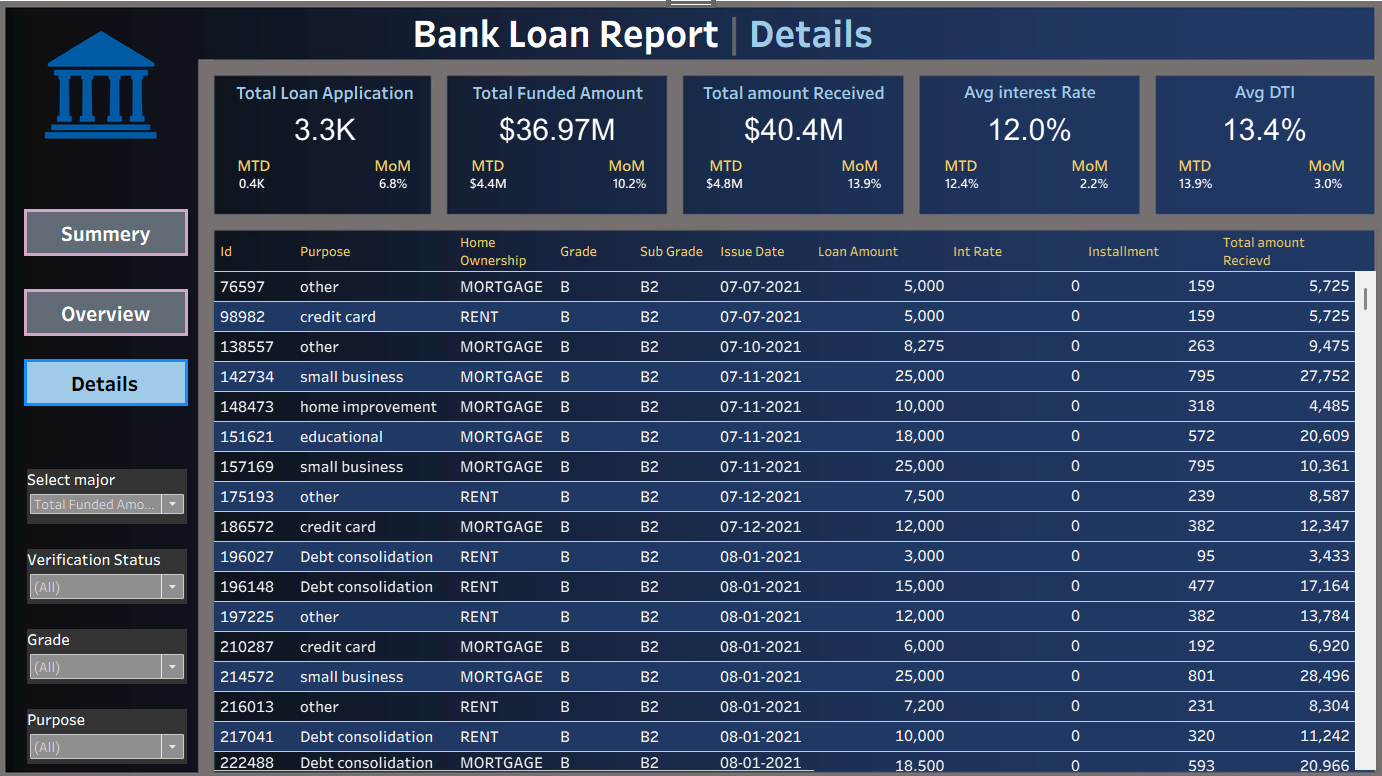

What the dashboard file says about the page in this screenshot:
{"tool":"tableau","page":{"name":"Details","canvas":[1000,1000],"units":"permille","ordinal":0},"visuals":[{"type":"image","param":"Image/Tableau Background 3.jpg","box":[5,10,990,980]},{"type":"text","box":[323.8,18.7,331.2,68.6]},{"type":"image","param":"Image/ChatGPT Image Oct 29, 2025, 01_03_14 PM.png","box":[70,22.4,121.9,230.7]},{"type":"worksheet","title":"Total Loan Application","mark":"Automatic","box":[202.5,108.5,137.5,87.3]},{"type":"worksheet","title":"Total Funded Amount","mark":"Automatic","box":[348.1,108.5,137.5,87.3]},{"type":"worksheet","title":"Total amount Received","mark":"Automatic","box":[495.6,108.5,137.5,87.3]},{"type":"worksheet","title":"Avg interest Rate","mark":"Automatic","box":[643.1,108.5,137.5,87.3]},{"type":"worksheet","title":"Avg DTI","mark":"Automatic","box":[790,108.5,137.5,87.3]},{"type":"text","box":[214.4,204.5,27.5,28.7]},{"type":"text","box":[300,204.5,27.5,28.7]},{"type":"text","box":[360.6,204.5,27.5,28.7]},{"type":"text","box":[446.2,204.5,27.5,28.7]},{"type":"text","box":[509.4,204.5,27.5,28.7]},{"type":"text","box":[591.9,204.5,27.5,28.7]},{"type":"text","box":[656.2,204.5,27.5,28.7]},{"type":"text","box":[735.6,204.5,27.5,28.7]},{"type":"text","box":[802.5,204.5,27.5,28.7]},{"type":"text","box":[883.8,204.5,27.5,28.7]},{"type":"worksheet","title":"MTD Total Laon Application","mark":"Automatic","box":[208.8,228.2,34.4,28.7]},{"type":"worksheet","title":"MoM  Laon Application","mark":"Automatic","box":[296.9,228.2,34.4,28.7]},{"type":"worksheet","title":"MTD Total Funded Ammount","mark":"Automatic","box":[355,228.2,34.4,28.7]},{"type":"worksheet","title":"MoM  Total Funded Amount","mark":"Automatic","box":[445,228.2,34.4,28.7]},{"type":"worksheet","title":"MTD Total Amount Recievd","mark":"Automatic","box":[504.4,228.2,34.4,28.7]},{"type":"worksheet","title":"MoM Total Amount recieved","mark":"Automatic","box":[591.9,228.2,34.4,28.7]},{"type":"worksheet","title":"MTD Avg Interest Rate","mark":"Automatic","box":[652.5,228.2,34.4,28.7]},{"type":"worksheet","title":"MoM Avg int Rate","mark":"Automatic","box":[735,228.2,34.4,28.7]},{"type":"worksheet","title":"MTD Avg DTI","mark":"Automatic","box":[798.8,228.2,34.4,28.7]},{"type":"worksheet","title":"MoM Avg DTI","mark":"Automatic","box":[881.2,228.2,34.4,28.7]},{"type":"dashboard-object","box":[83.1,274.3,102.5,58.6]},{"type":"worksheet","title":"Details Tab","mark":"Automatic","rows":["id","purpose","home_ownership","grade","sub_grade","issue_date"],"box":[201.9,301.8,726.2,673.3]},{"type":"dashboard-object","box":[83.1,374.1,102.5,58.6]},{"type":"dashboard-object","box":[83.1,461.4,102.5,58.6]},{"type":"parameter","param":"[Parameters].[Parameter 1]","box":[85,598.5,100,68.6]},{"type":"filter","title":"Avg DTI","param":"[federated.1wn1w61167jnc519fe91r04a9m42].[none:verification_status:nk]","box":[85,698.2,100,68.6]},{"type":"filter","title":"Avg DTI","param":"[federated.1wn1w61167jnc519fe91r04a9m42].[none:grade:nk]","box":[85,798,100,68.6]},{"type":"filter","title":"Avg DTI","param":"[federated.1wn1w61167jnc519fe91r04a9m42].[none:purpose:nk]","box":[85,897.8,100,68.6]}]}

Visuals, with their boxes on the dashboard's canvas, which has no fixed pixel size, in thousandths of its width and height (x1, y1, x2, y2). These are canvas units, not pixel positions in the 1382x776 screenshot, which may show the page scaled, cropped or inside an application window:
image: BBox(5, 10, 995, 990)
text: BBox(324, 19, 655, 87)
image: BBox(70, 22, 192, 253)
"Total Loan Application" worksheet: BBox(202, 108, 340, 196)
"Total Funded Amount" worksheet: BBox(348, 108, 486, 196)
"Total amount Received" worksheet: BBox(496, 108, 633, 196)
"Avg interest Rate" worksheet: BBox(643, 108, 781, 196)
"Avg DTI" worksheet: BBox(790, 108, 928, 196)
text: BBox(214, 204, 242, 233)
text: BBox(300, 204, 328, 233)
text: BBox(361, 204, 388, 233)
text: BBox(446, 204, 474, 233)
text: BBox(509, 204, 537, 233)
text: BBox(592, 204, 619, 233)
text: BBox(656, 204, 684, 233)
text: BBox(736, 204, 763, 233)
text: BBox(802, 204, 830, 233)
text: BBox(884, 204, 911, 233)
"MTD Total Laon Application" worksheet: BBox(209, 228, 243, 257)
"MoM  Laon Application" worksheet: BBox(297, 228, 331, 257)
"MTD Total Funded Ammount" worksheet: BBox(355, 228, 389, 257)
"MoM  Total Funded Amount" worksheet: BBox(445, 228, 479, 257)
"MTD Total Amount Recievd" worksheet: BBox(504, 228, 539, 257)
"MoM Total Amount recieved" worksheet: BBox(592, 228, 626, 257)
"MTD Avg Interest Rate" worksheet: BBox(652, 228, 687, 257)
"MoM Avg int Rate" worksheet: BBox(735, 228, 769, 257)
"MTD Avg DTI" worksheet: BBox(799, 228, 833, 257)
"MoM Avg DTI" worksheet: BBox(881, 228, 916, 257)
dashboard-object: BBox(83, 274, 186, 333)
"Details Tab" worksheet: BBox(202, 302, 928, 975)
dashboard-object: BBox(83, 374, 186, 433)
dashboard-object: BBox(83, 461, 186, 520)
parameter: BBox(85, 598, 185, 667)
"Avg DTI" filter: BBox(85, 698, 185, 767)
"Avg DTI" filter: BBox(85, 798, 185, 867)
"Avg DTI" filter: BBox(85, 898, 185, 966)
